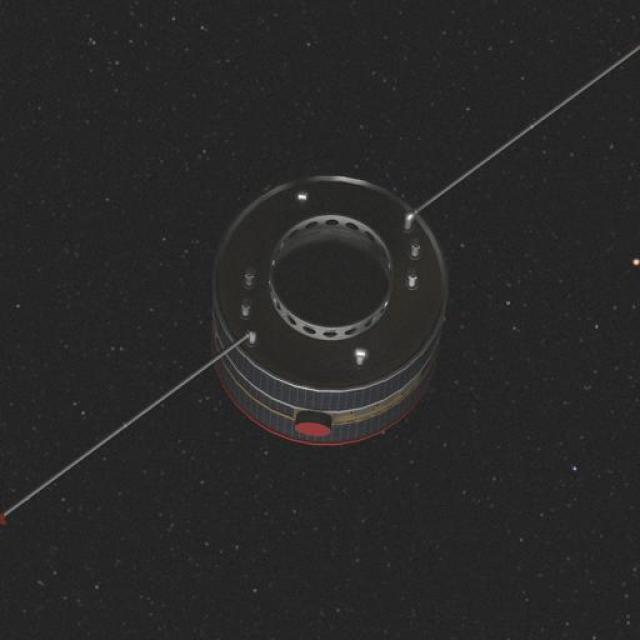double_start: (185, 162, 472, 462)
